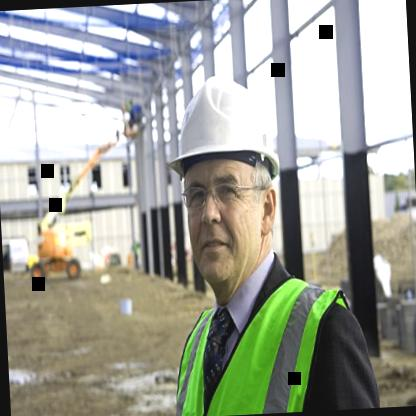helmet: (155, 46, 296, 310)
